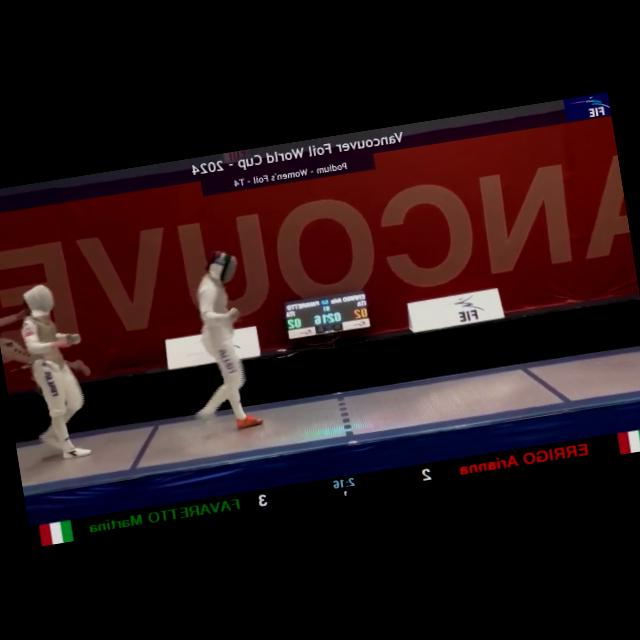blade: (66, 329, 119, 363)
